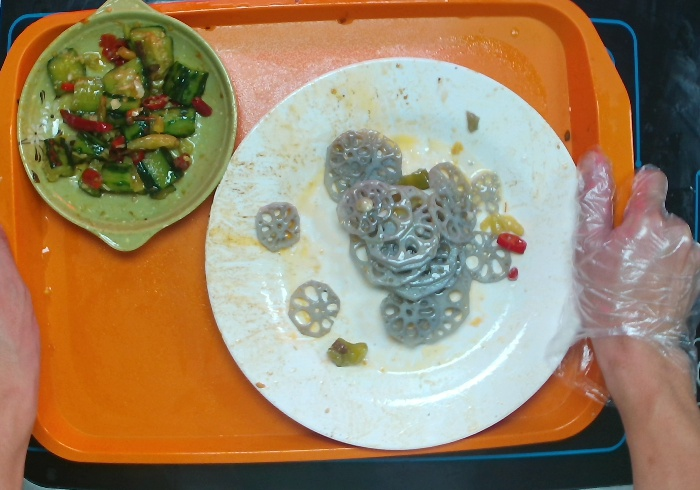NLDX-Da_Yuan_Pan: (198, 51, 588, 451)
NLDX-Lv_Hua_Shuang_Er_Die: (12, 1, 238, 254)
